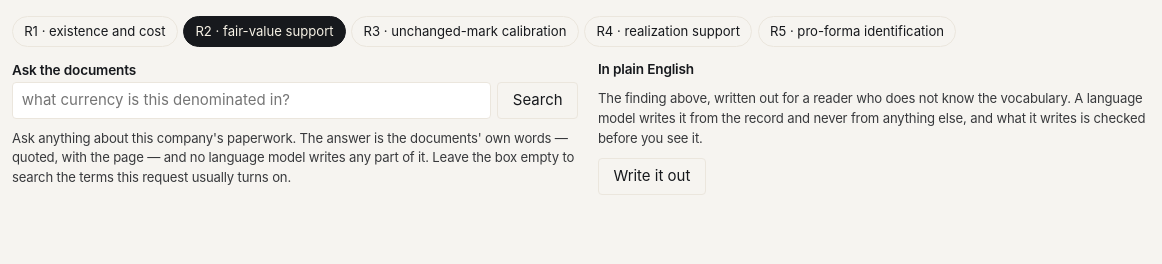
asking the documents › renders the passage as a quotation with the page it sits on
Click the button "Search": (538, 100) [497,82,578,119]
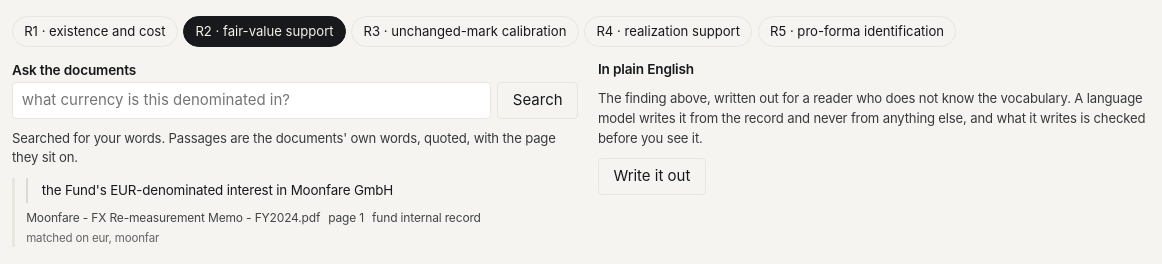
Check: the text "the Fund's EUR-denominated interest in Moonfare GmbH" is shown, box [26,178,550,203]
Check: the text "page 1" is shown, box [328,209,364,227]
Check: the text "Moonfare - FX Re-measurement Memo - FY2024.pdf" is shown, box [26,209,320,227]
